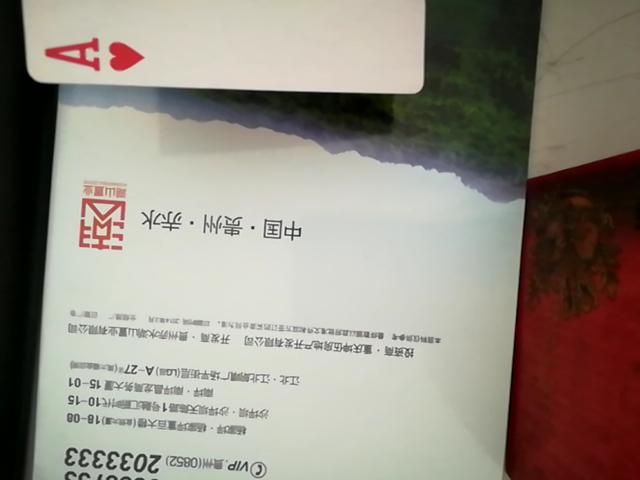hx a: (15, 0, 431, 101)
